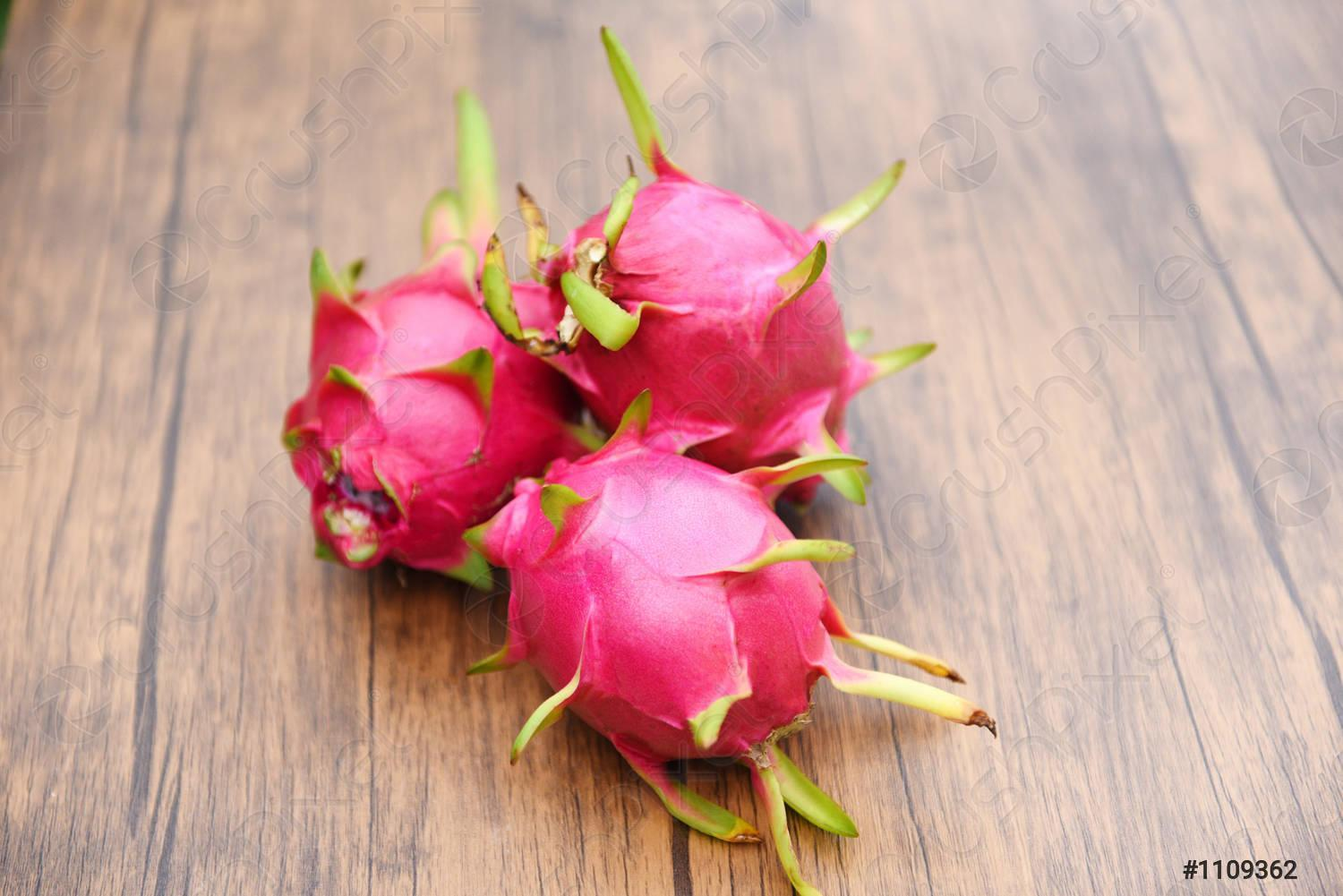dragon-fruit: (507, 443, 830, 763), (548, 179, 849, 506), (280, 268, 583, 573)
